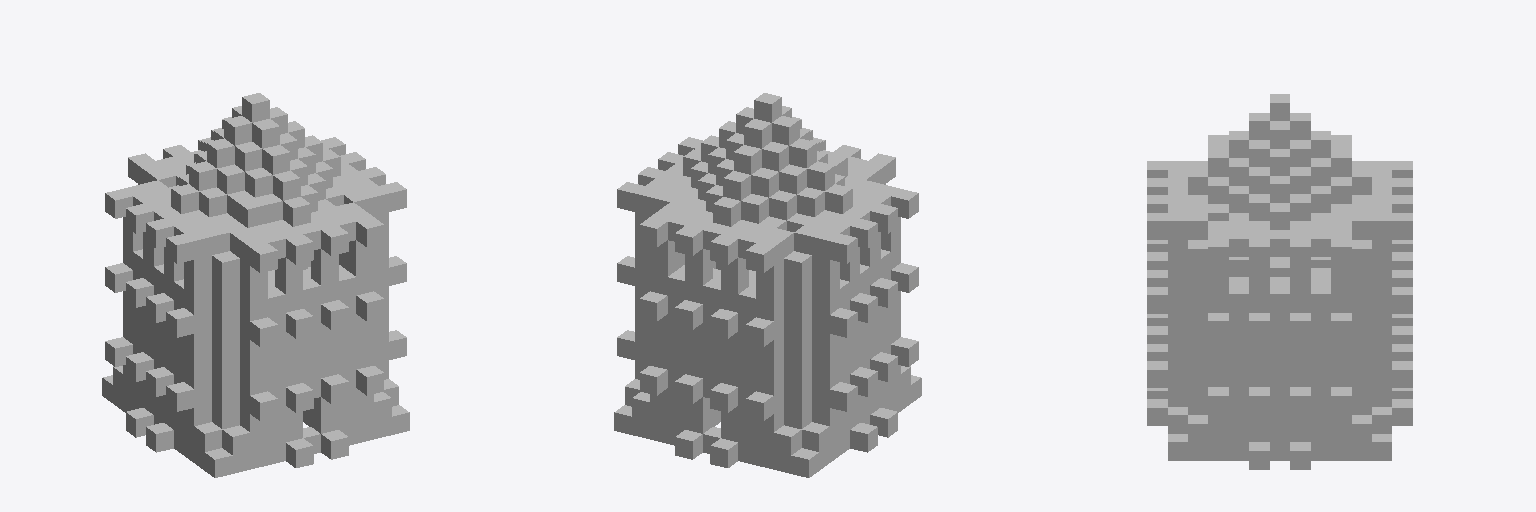
File: mesh_town_3story.obj
The picture shows the model from 3 angles: view 1: azimuth 30°, elevation 25°; view 2: azimuth 150°, elevation 25°; view 3: azimuth 270°, elevation 25°; orthographic projection.
Size of the model in its own units: 0.4062 by 0.5312 by 0.4062.